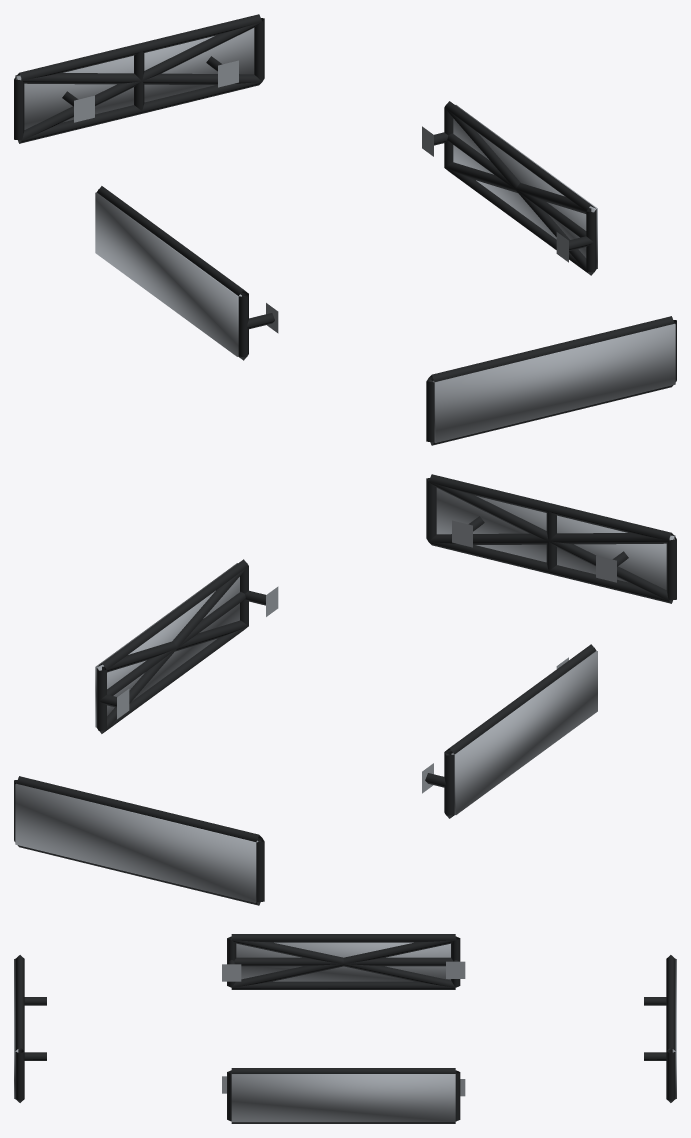
File: kosame_musgo_protecao.glb
The picture shows the model from 3 angles, top to bottom: view 1: azimuth 30°, elevation 25°; view 2: azimuth 150°, elevation 25°; view 3: azimuth 270°, elevation 25°; orthographic projection. The views are drawn at different scales.
Visible parts, largest first — view 1: Protection_front_Level3_Details, Protection_left_Level3_Details, Protection_rear_Level1_Details, Protection_rear_Level3_Details, Protection_right_Level1_Details, Protection_rear_Level2_Details, Protection_right_Level2_Details, Protection_right_Level3_Details, Protection_front_Level1_Details, Protection_left_Level1_Details; view 2: Protection_rear_Level3_Details, Protection_left_Level3_Details, Protection_front_Level1_Details, Protection_front_Level3_Details, Protection_right_Level1_Details, Protection_front_Level2_Details, Protection_right_Level2_Details, Protection_rear_Level1_Details, Protection_right_Level3_Details, Protection_left_Level1_Details; view 3: Protection_right_Level3_Details, Protection_left_Level2_Details, Protection_left_Level1_Details, Protection_left_Level3_Details, Protection_right_Level1_Details, Protection_rear_Level1_Details, Protection_front_Level1_Details.
Boxes of the visible parts, x1,y1,x2,y2 form: Protection_front_Level3_Details: (432,323,675,442); Protection_left_Level3_Details: (95,192,241,356); Protection_rear_Level1_Details: (14,14,264,143); Protection_rear_Level3_Details: (15,28,254,129); Protection_right_Level1_Details: (422,101,596,275); Protection_rear_Level2_Details: (16,22,261,142); Protection_right_Level2_Details: (444,108,595,274); Protection_right_Level3_Details: (453,105,597,268); Protection_front_Level1_Details: (426,316,676,445); Protection_left_Level1_Details: (96,186,278,360); Protection_rear_Level3_Details: (15,783,258,902); Protection_left_Level3_Details: (451,651,597,814); Protection_front_Level1_Details: (426,474,676,603); Protection_front_Level3_Details: (436,488,675,589); Protection_right_Level1_Details: (96,559,278,733); Protection_front_Level2_Details: (429,482,674,602); Protection_right_Level2_Details: (97,567,248,733); Protection_rear_Level1_Details: (14,776,264,905); Protection_right_Level3_Details: (95,563,239,727); Protection_left_Level1_Details: (422,644,596,818); Protection_right_Level3_Details: (231,1074,455,1122); Protection_left_Level2_Details: (231,937,456,987); Protection_left_Level1_Details: (222,934,465,989); Protection_left_Level3_Details: (236,942,450,981); Protection_right_Level1_Details: (222,1068,465,1123); Protection_rear_Level1_Details: (644,955,675,1102); Protection_front_Level1_Details: (15,955,46,1102).
Bounding box in the file's own units: 1.88 × 0.354 × 3.79.
1 material, 1 textured.
